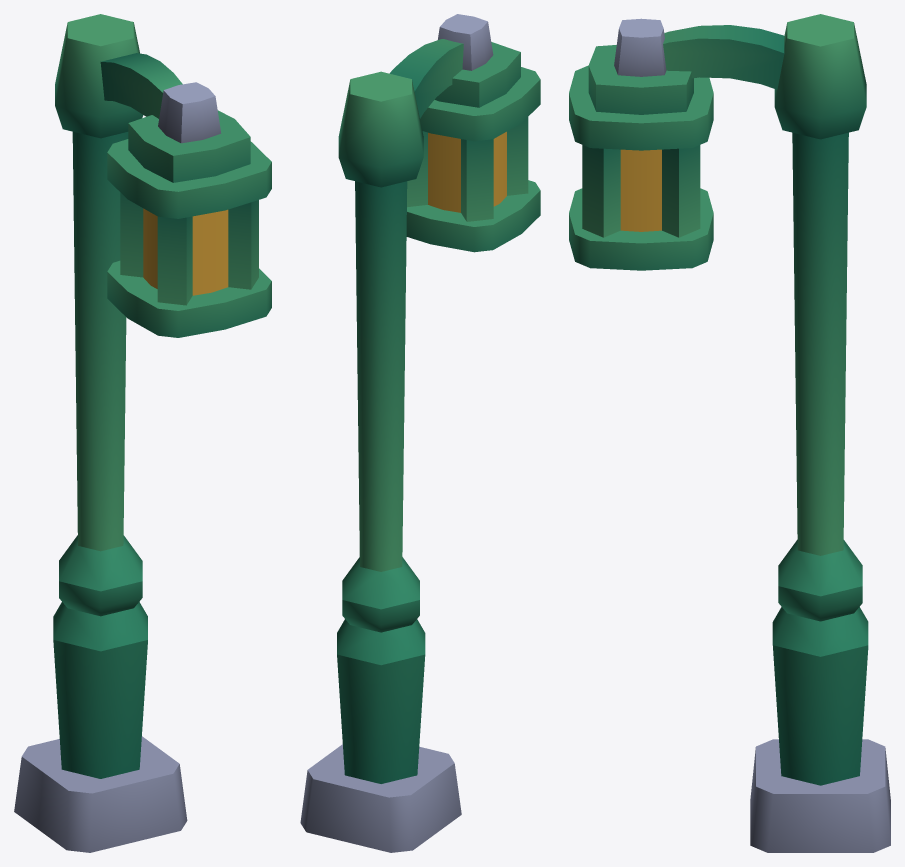
The model's file is lightpost-single.glb.
3 views of the same model, side by side, from view 1: azimuth 30°, elevation 25°; view 2: azimuth 150°, elevation 25°; view 3: azimuth 270°, elevation 25° (orthographic). The views are drawn at different scales.
Parts seen in each view (by area): view 1: lightpost-single; view 2: lightpost-single; view 3: lightpost-single.
Part boxes in pixels (x1,y1,x2,y2): lightpost-single: [14, 14, 271, 852]; lightpost-single: [300, 14, 540, 852]; lightpost-single: [569, 14, 890, 852].
Bounding box in the file's own units: 0.2088 × 1.27 × 0.4649.
